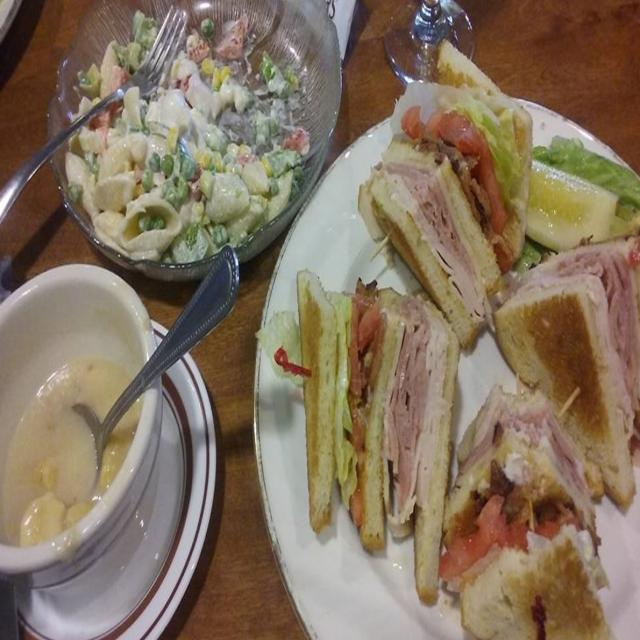Sandwich: (308, 56, 633, 639)
